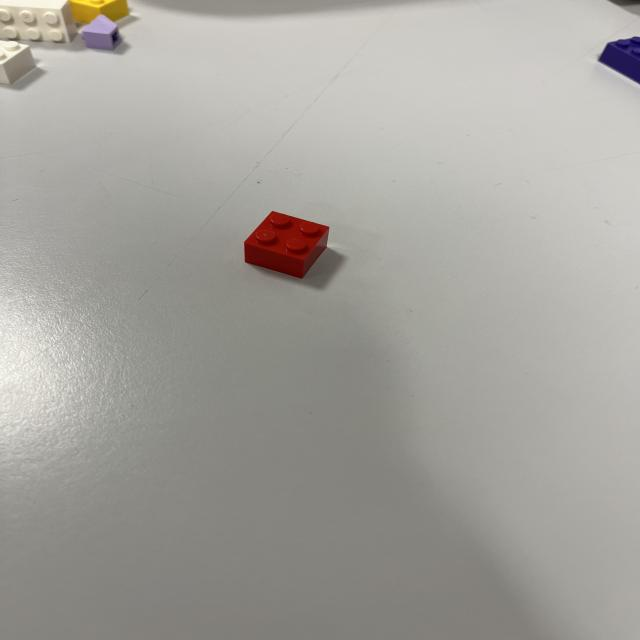C2x2x1: (237, 207, 338, 282)
